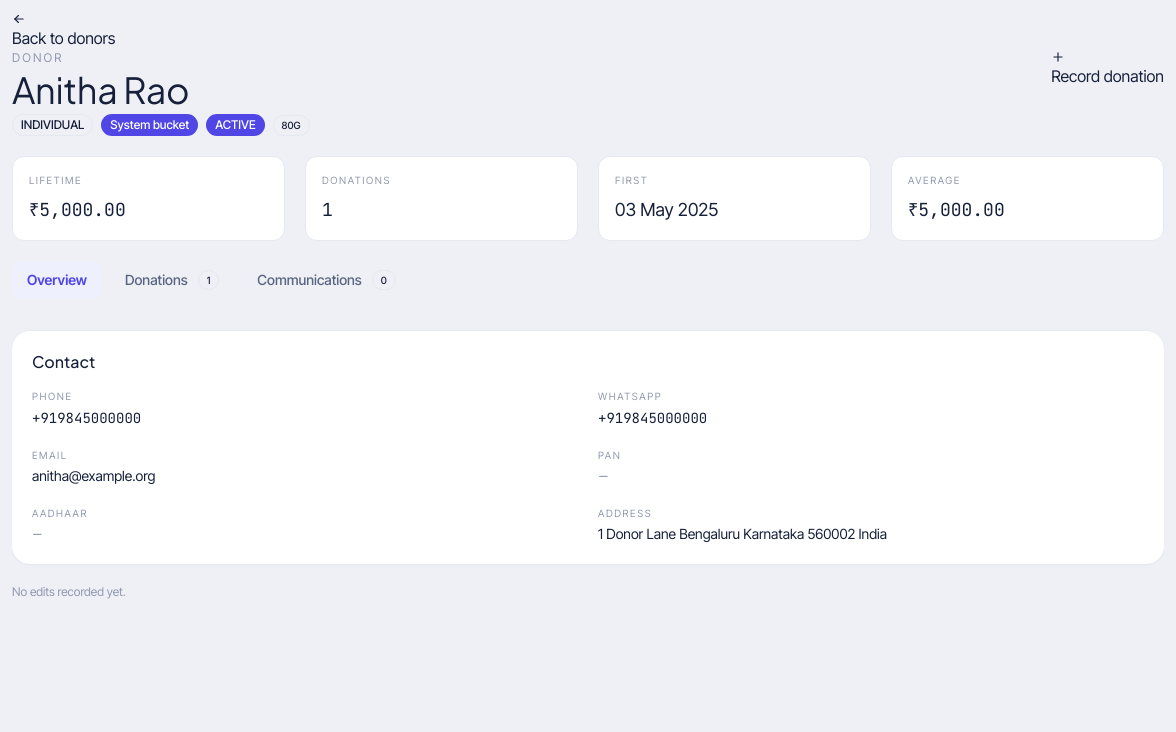
donor profile donation rows › shows a role that cannot send nothing but the download
Click the tab "Donations 1" at coordinates (172, 280), box [110,261,234,299]
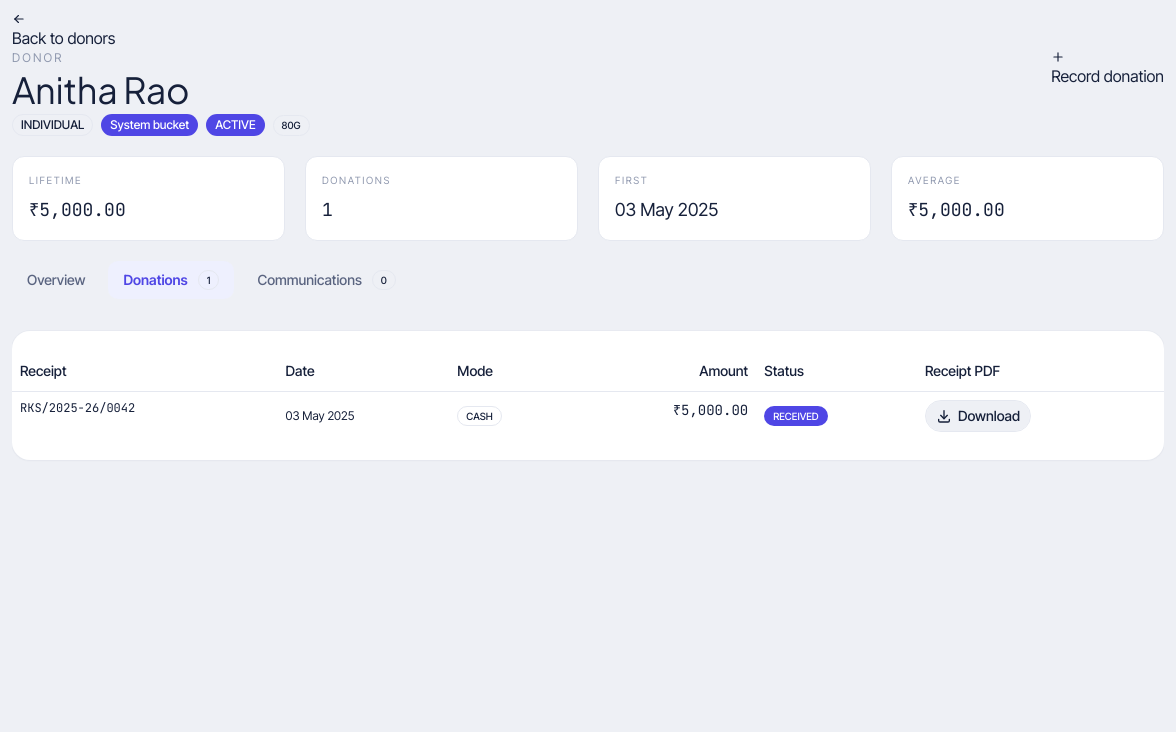
expect the button "Download" is shown: met, box [925,400,1031,432]
